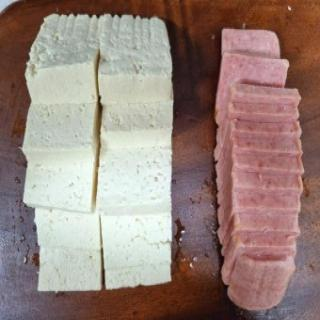Tahu: (22, 14, 175, 293)
